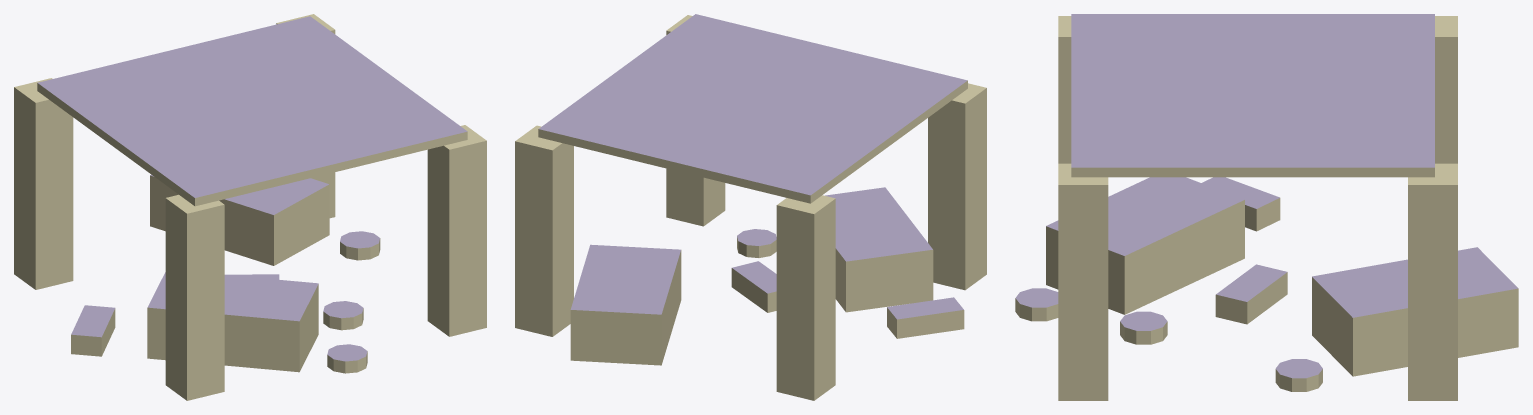
File: bar.glb
3 views of the same model, side by side, from view 1: azimuth 30°, elevation 25°; view 2: azimuth 150°, elevation 25°; view 3: azimuth 270°, elevation 25° (orthographic). The views are drawn at different scales.
Visible parts, largest first — view 1: Cylinder; view 2: Cylinder; view 3: Cylinder.
Boxes of the visible parts, <box> form: Cylinder: <box>14,14,486,400</box>; Cylinder: <box>515,14,986,400</box>; Cylinder: <box>1015,14,1518,400</box>.
Bounding box in the file's own units: 0.8392 × 0.4525 × 0.9143.
